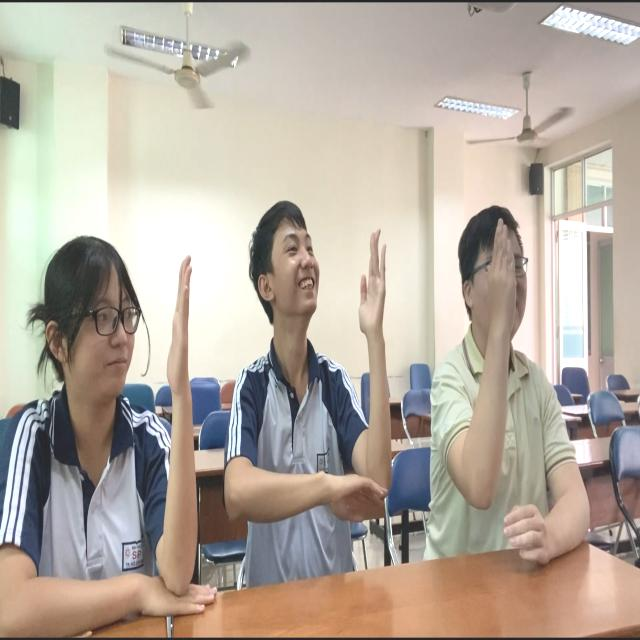raise_hand: (1, 238, 210, 640), (228, 197, 395, 586), (431, 200, 597, 561)
